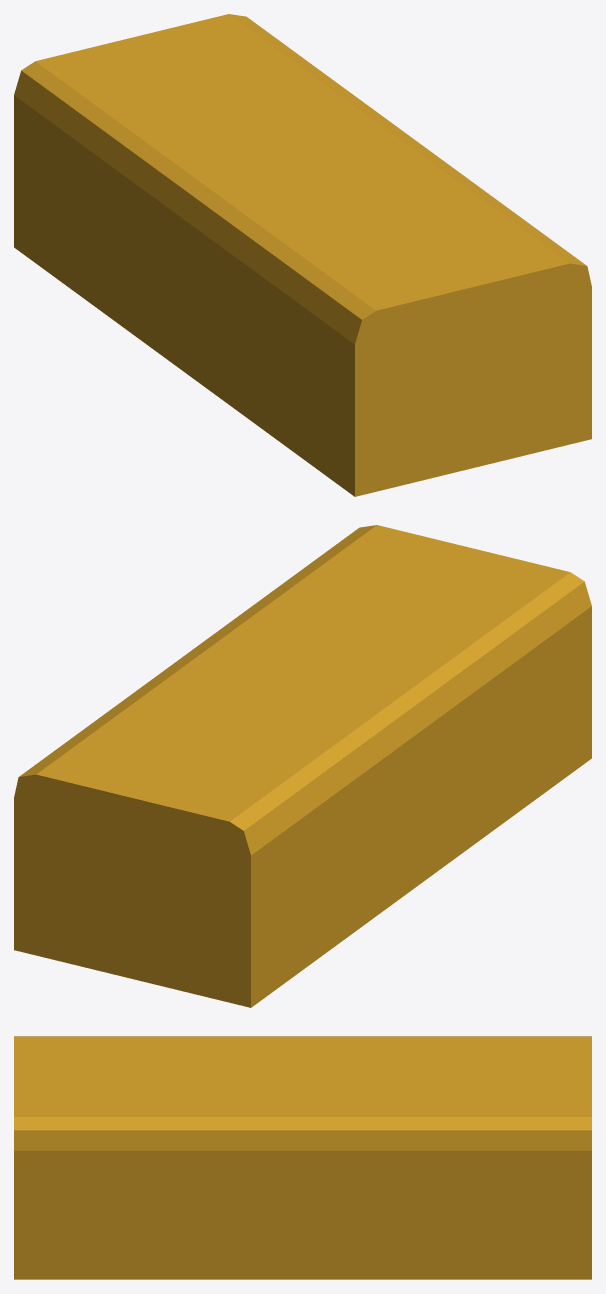
File: cheese.fbx
3 views of the same model, one above another, from view 1: azimuth 30°, elevation 25°; view 2: azimuth 150°, elevation 25°; view 3: azimuth 270°, elevation 25° (orthographic). The views are drawn at different scales.
Visible parts, largest first — view 1: Box020; view 2: Box020; view 3: Box020.
Boxes of the visible parts, bbox=[...] form: Box020: bbox=[14, 14, 591, 496]; Box020: bbox=[14, 525, 591, 1007]; Box020: bbox=[14, 1036, 591, 1279].
Bounding box in the file's own units: 15.42 × 11.25 × 38.41.
